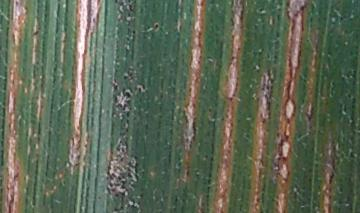tarspot: (120, 86, 135, 100), (152, 19, 162, 35)
